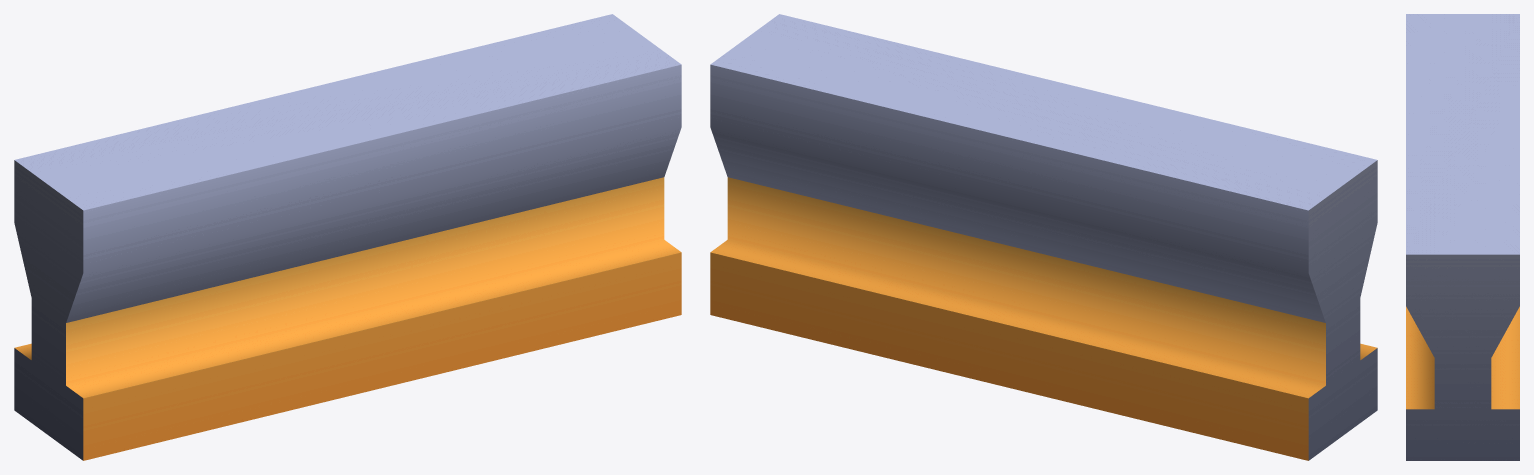
Rendered from balcony-rail-center.glb.
The picture shows the model from 3 angles, left to right: view 1: azimuth 30°, elevation 25°; view 2: azimuth 150°, elevation 25°; view 3: azimuth 270°, elevation 25°; orthographic projection. The views are drawn at different scales.
Visible parts, largest first — view 1: balcony-rail-center; view 2: balcony-rail-center; view 3: balcony-rail-center.
Part boxes in pixels (x1,y1,x2,y2): balcony-rail-center: (14,14,681,460); balcony-rail-center: (710,14,1377,460); balcony-rail-center: (1406,14,1519,460).
Size of the model in its own units: 1 by 0.4 by 0.2.
1 material, 1 textured.
